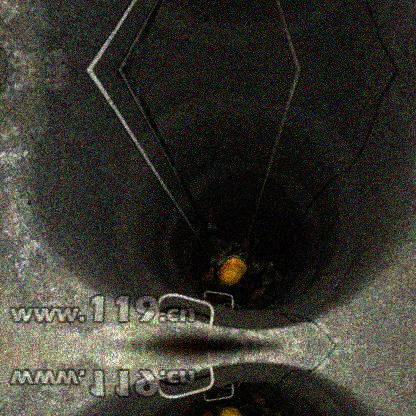helmet: (219, 254, 244, 286)
